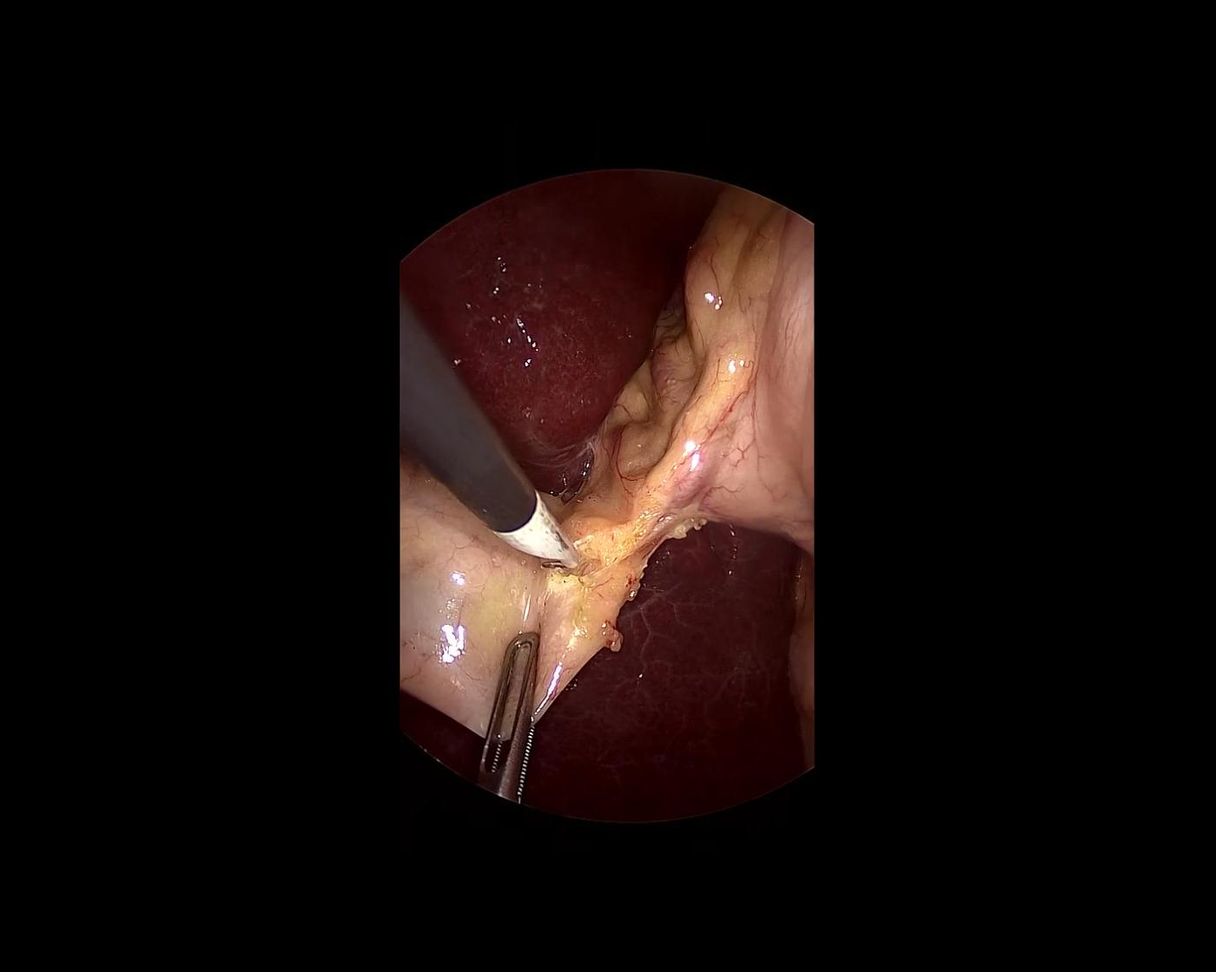Cautery: (336, 300, 583, 608)
Forceps: (473, 628, 558, 804)
Gallbladder: (352, 444, 657, 757)
Liver: (337, 65, 737, 504), (395, 520, 804, 824)
